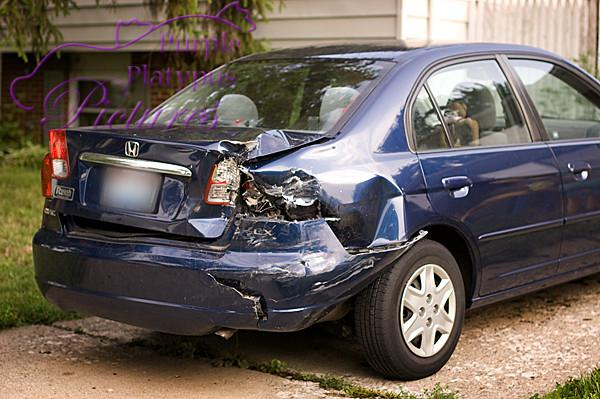boot-dent: (151, 131, 314, 256)
quaterpanel-dent: (327, 165, 439, 253)
rear-bumper-dent: (146, 246, 326, 345)
